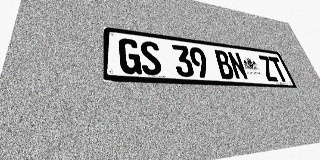3: (171, 44, 195, 77)
9: (188, 46, 211, 78)
B: (213, 49, 236, 79)
G: (118, 38, 142, 75)
N: (226, 51, 249, 80)
S: (139, 40, 163, 76)
T: (268, 56, 289, 82)
Z: (257, 55, 279, 82)
